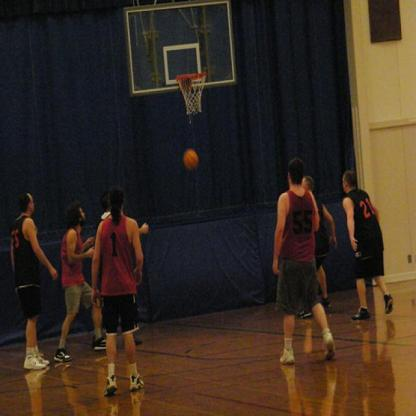basketball: (182, 149, 198, 170)
